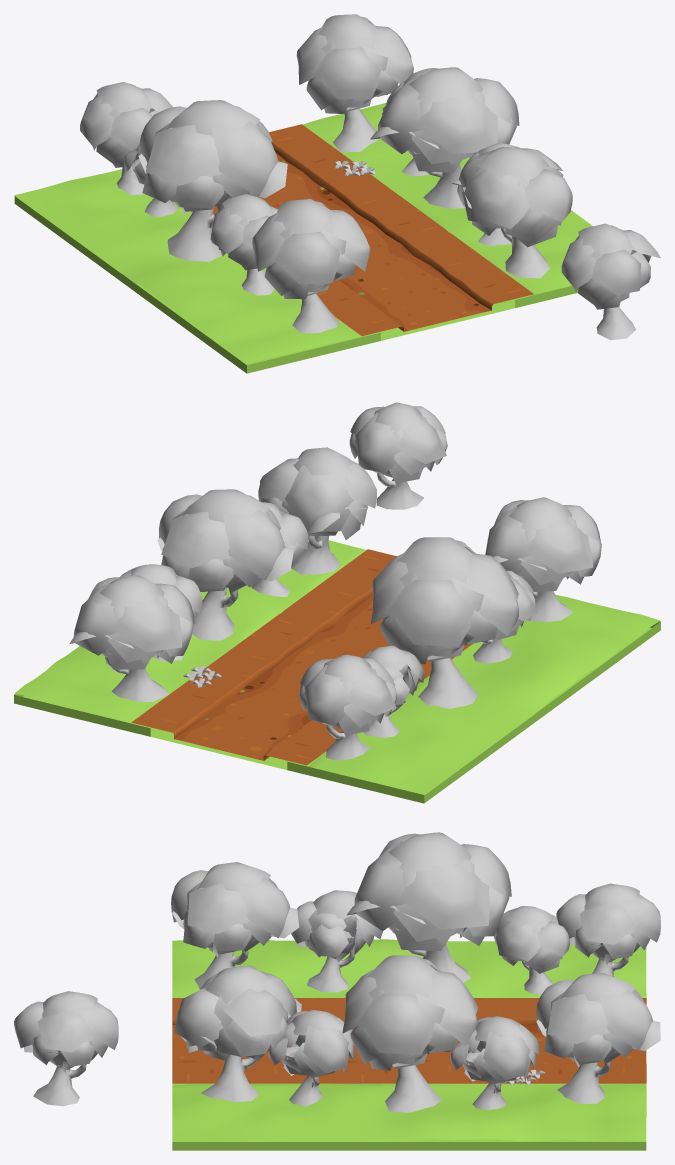
Rendered from Forest6.fbx.
The picture shows the model from 3 angles, top to bottom: view 1: azimuth 30°, elevation 25°; view 2: azimuth 150°, elevation 25°; view 3: azimuth 270°, elevation 25°; orthographic projection. The views are drawn at different scales.
Visible parts, largest first — view 1: road_I_2.083, BOSQUELOWPOLY.062, BOSQUELOWPOLY.067, BOSQUELOWPOLY.064, BOSQUELOWPOLY.063, BOSQUELOWPOLY.069, road_I_2.080, Plane.028, road_I_2.082, BOSQUELOWPOLY.054, Cube.026, BOSQUELOWPOLY.060 (+5 smaller); view 2: road_I_2.083, BOSQUELOWPOLY.062, BOSQUELOWPOLY.067, road_I_2.082, Plane.028, BOSQUELOWPOLY.069, road_I_2.080, BOSQUELOWPOLY.063, BOSQUELOWPOLY.064, BOSQUELOWPOLY.054, BOSQUELOWPOLY.060, Cube.026 (+6 smaller); view 3: road_I_2.082, BOSQUELOWPOLY.062, BOSQUELOWPOLY.067, road_I_2.083, BOSQUELOWPOLY.064, BOSQUELOWPOLY.069, BOSQUELOWPOLY.063, BOSQUELOWPOLY.054, BOSQUELOWPOLY.060, road_I_2.080, Cube.026, BOSQUELOWPOLY.061 (+5 smaller).
Part boxes in pixels (bbox=[...]): road_I_2.083: bbox=[14, 169, 361, 363]; BOSQUELOWPOLY.062: bbox=[138, 100, 287, 261]; BOSQUELOWPOLY.067: bbox=[370, 67, 519, 208]; BOSQUELOWPOLY.064: bbox=[452, 147, 572, 278]; BOSQUELOWPOLY.063: bbox=[252, 199, 370, 333]; BOSQUELOWPOLY.069: bbox=[296, 14, 413, 152]; road_I_2.080: bbox=[269, 124, 533, 303]; Plane.028: bbox=[254, 152, 491, 331]; road_I_2.082: bbox=[302, 102, 592, 295]; BOSQUELOWPOLY.054: bbox=[561, 223, 660, 340]; Cube.026: bbox=[14, 191, 578, 373]; BOSQUELOWPOLY.060: bbox=[80, 82, 172, 194]; road_I_2.083: bbox=[309, 595, 660, 794]; BOSQUELOWPOLY.062: bbox=[370, 537, 519, 708]; BOSQUELOWPOLY.067: bbox=[157, 489, 293, 640]; road_I_2.082: bbox=[14, 540, 366, 722]; Plane.028: bbox=[174, 595, 388, 760]; BOSQUELOWPOLY.069: bbox=[69, 575, 194, 701]; road_I_2.080: bbox=[131, 549, 396, 732]; BOSQUELOWPOLY.063: bbox=[485, 497, 601, 622]; BOSQUELOWPOLY.064: bbox=[258, 447, 376, 574]; BOSQUELOWPOLY.054: bbox=[349, 402, 447, 509]; BOSQUELOWPOLY.060: bbox=[299, 654, 396, 760]; Cube.026: bbox=[14, 549, 660, 803]; road_I_2.082: bbox=[172, 1083, 646, 1141]; BOSQUELOWPOLY.062: bbox=[347, 832, 511, 982]; BOSQUELOWPOLY.067: bbox=[342, 955, 478, 1112]; road_I_2.083: bbox=[172, 939, 646, 997]; BOSQUELOWPOLY.064: bbox=[174, 965, 301, 1102]; BOSQUELOWPOLY.069: bbox=[536, 973, 660, 1103]; BOSQUELOWPOLY.063: bbox=[171, 862, 299, 988]; BOSQUELOWPOLY.054: bbox=[14, 991, 118, 1106]; BOSQUELOWPOLY.060: bbox=[556, 883, 660, 976]; road_I_2.080: bbox=[172, 1062, 646, 1083]; Cube.026: bbox=[172, 947, 646, 1150]; BOSQUELOWPOLY.061: bbox=[291, 890, 382, 992].
Size of the model in its own units: 10020 by 3693 by 13646.
